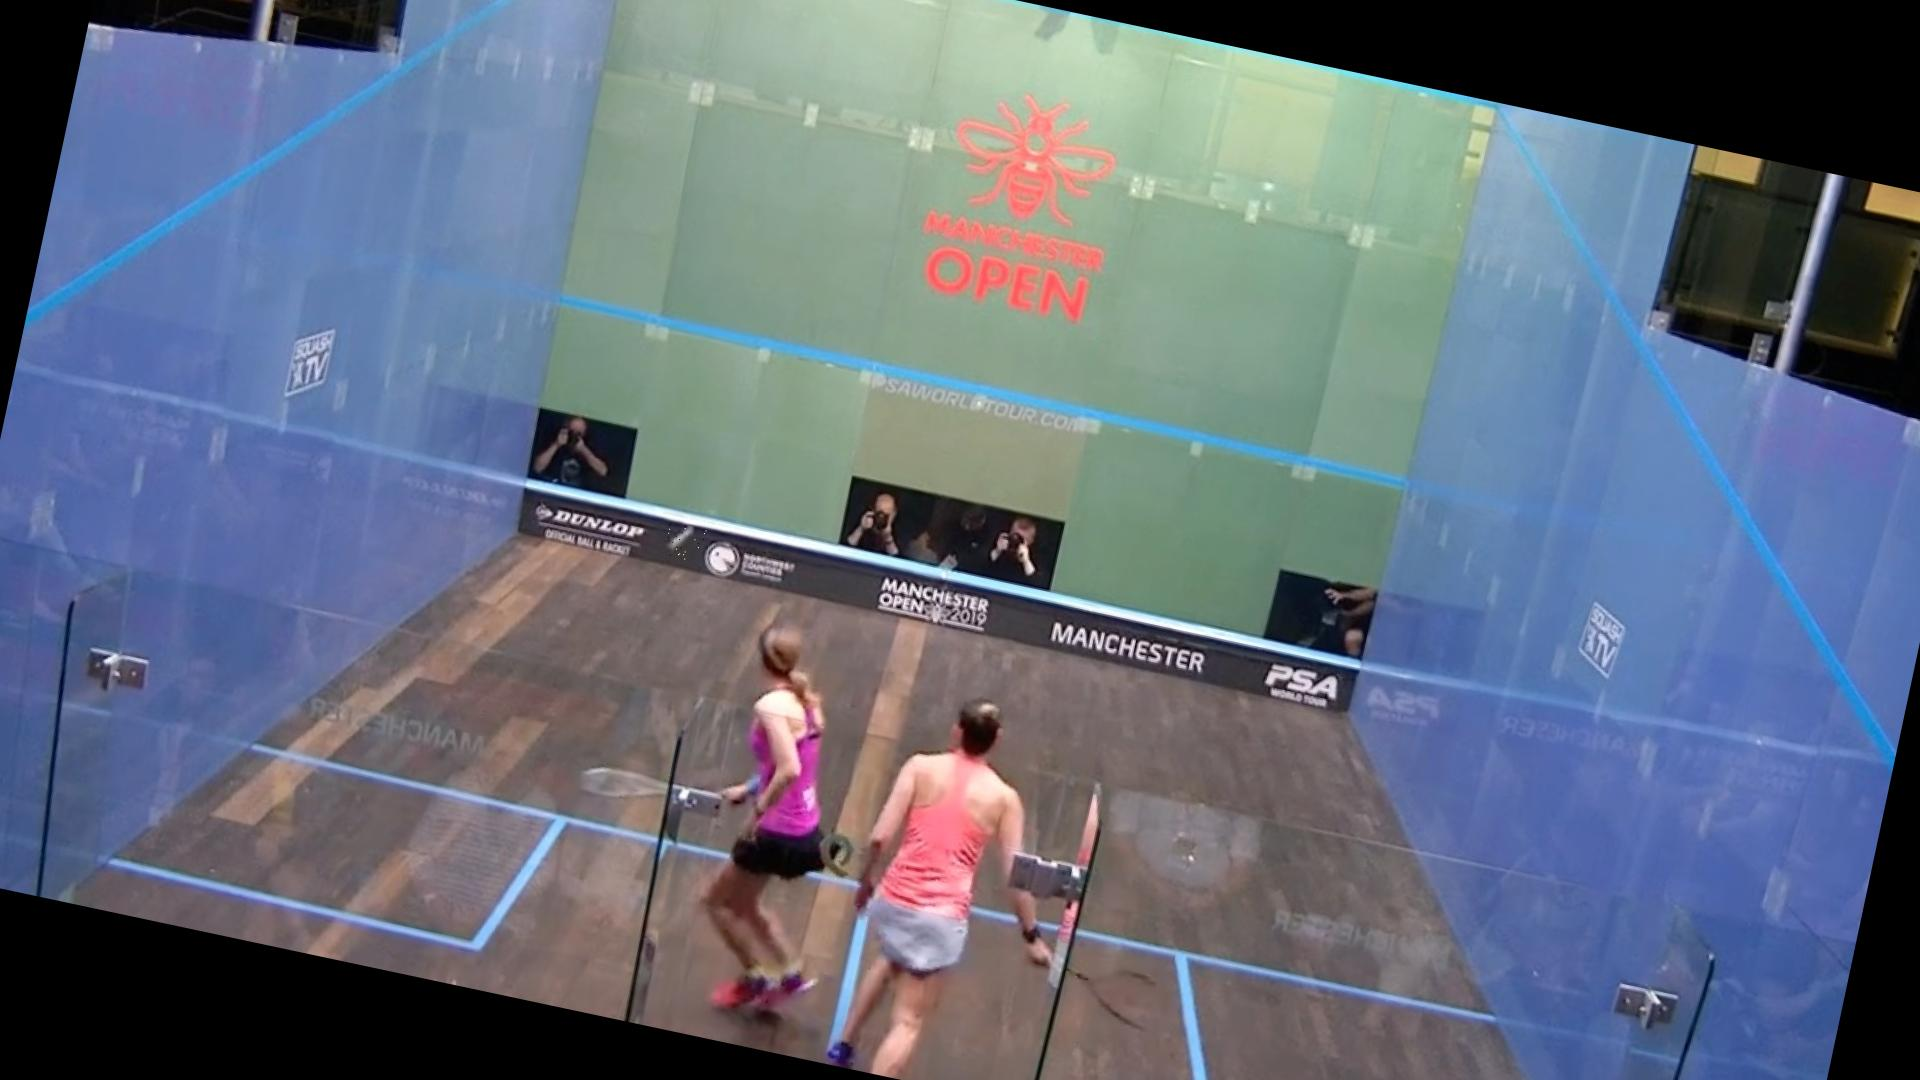Squash-Ball: (662, 522, 707, 563)
